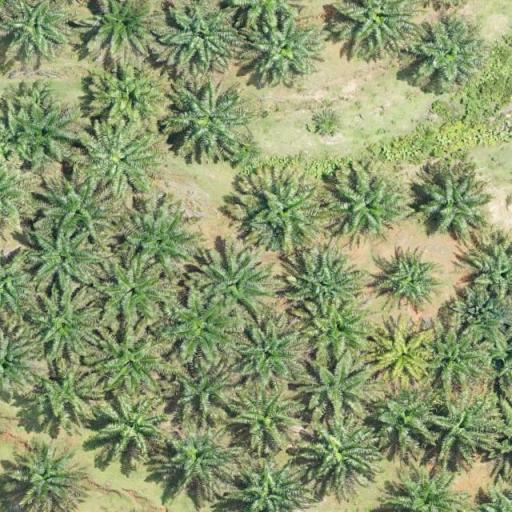Ganoderma: (384, 334, 424, 372)
